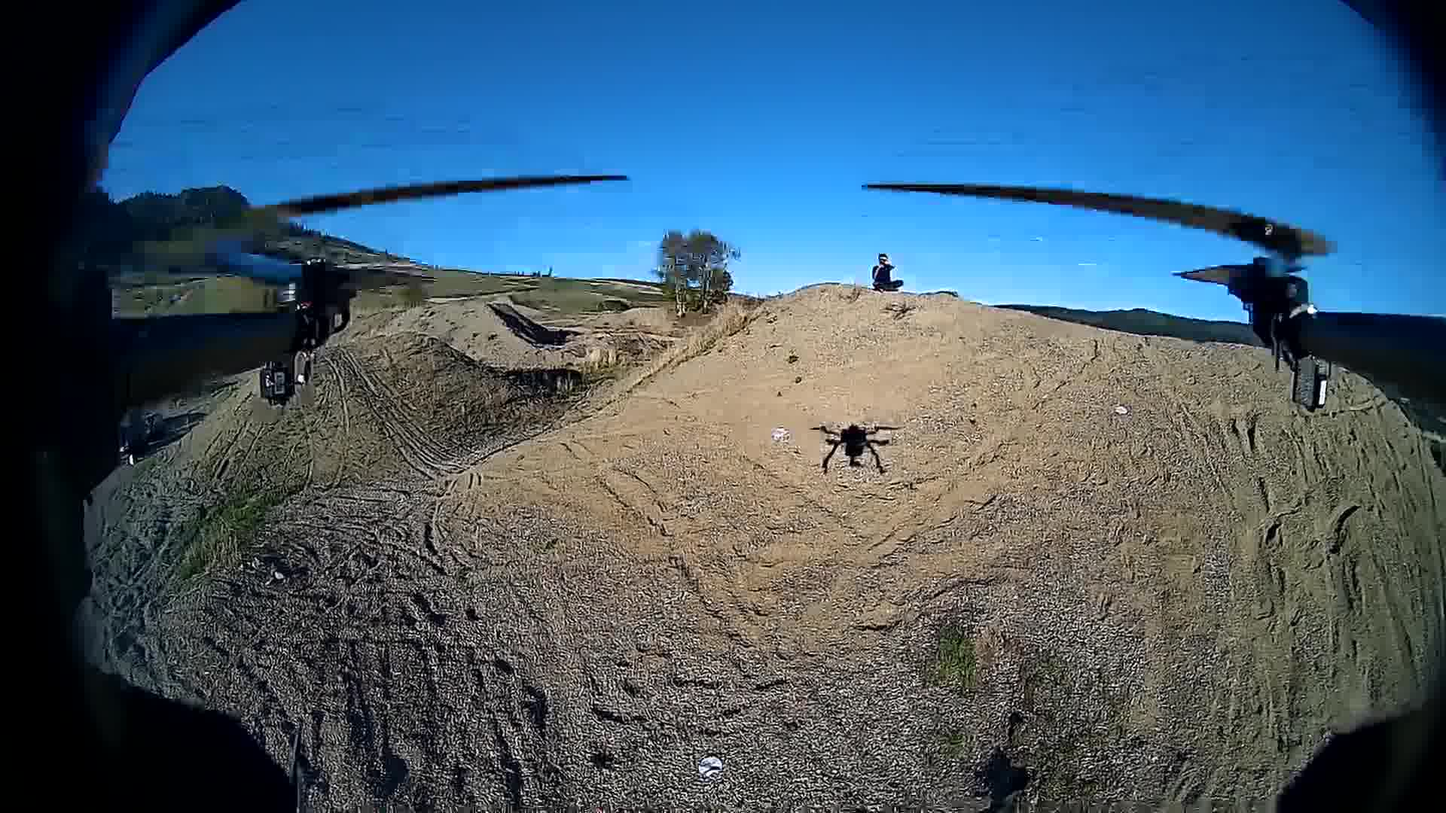Target: (697, 758, 721, 774), (772, 426, 787, 441), (1116, 405, 1127, 416)
